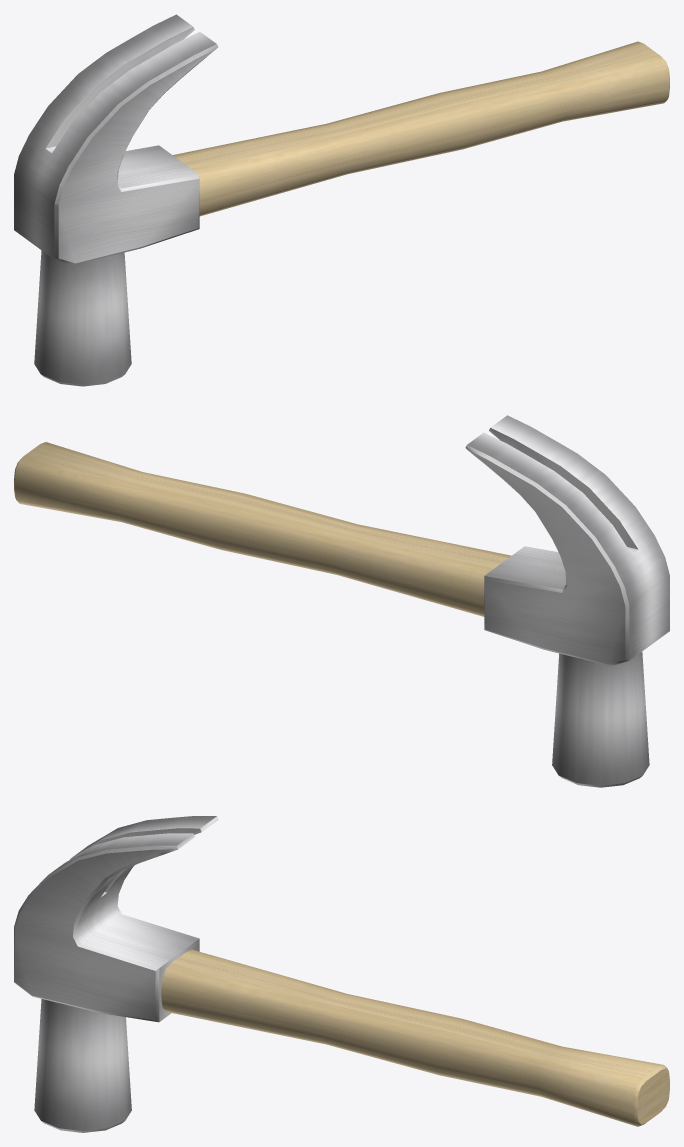
File: chuizi.FBX
The picture shows the model from 3 angles, top to bottom: view 1: azimuth 30°, elevation 25°; view 2: azimuth 150°, elevation 25°; view 3: azimuth 330°, elevation 25°; orthographic projection.
Visible parts, largest first — view 1: chuizi; view 2: chuizi; view 3: chuizi.
Boxes of the visible parts, x1,y1,x2,y2 form: chuizi: [14, 14, 669, 386]; chuizi: [14, 415, 669, 787]; chuizi: [14, 816, 669, 1132].
Size of the model in its own units: 0.2221 by 0.1064 by 0.0303.
